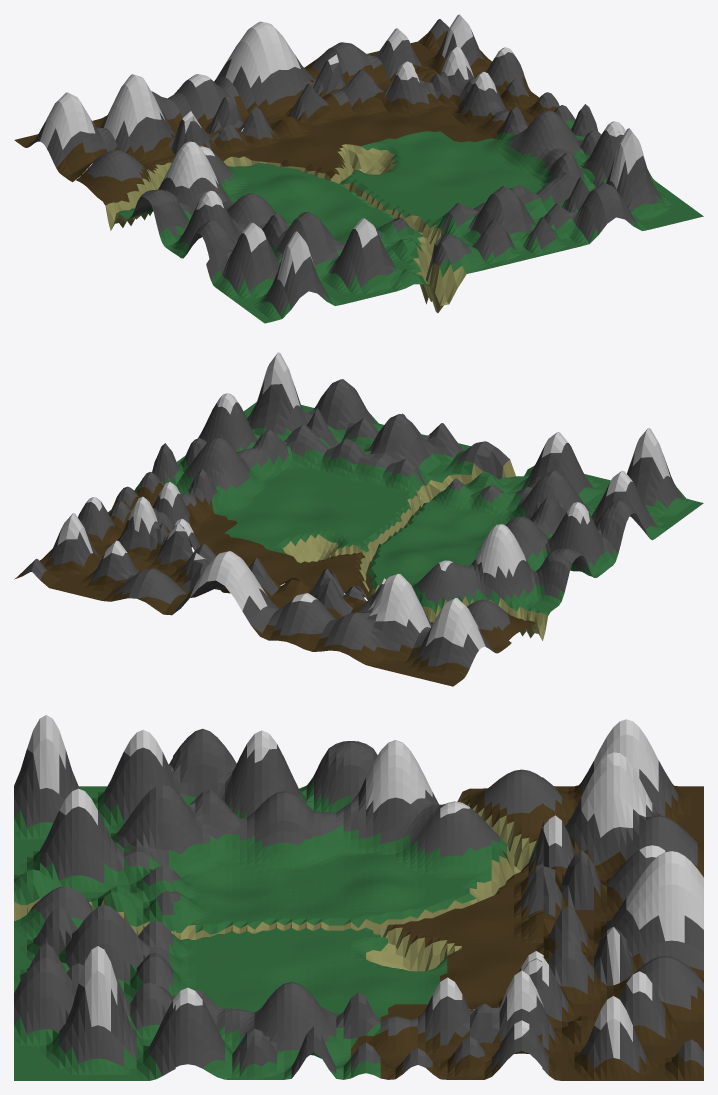
File: MapV4.fbx
3 views of the same model, one above another, from view 1: azimuth 30°, elevation 25°; view 2: azimuth 150°, elevation 25°; view 3: azimuth 270°, elevation 25° (orthographic). The views are drawn at different scales.
Parts seen in each view (by area): view 1: polySurface5; view 2: polySurface5; view 3: polySurface5.
Part boxes in pixels (bbox=[...]): polySurface5: bbox=[14, 14, 703, 323]; polySurface5: bbox=[14, 352, 703, 686]; polySurface5: bbox=[14, 715, 703, 1080].
Size of the model in its own units: 45.25 by 13.95 by 44.76.
